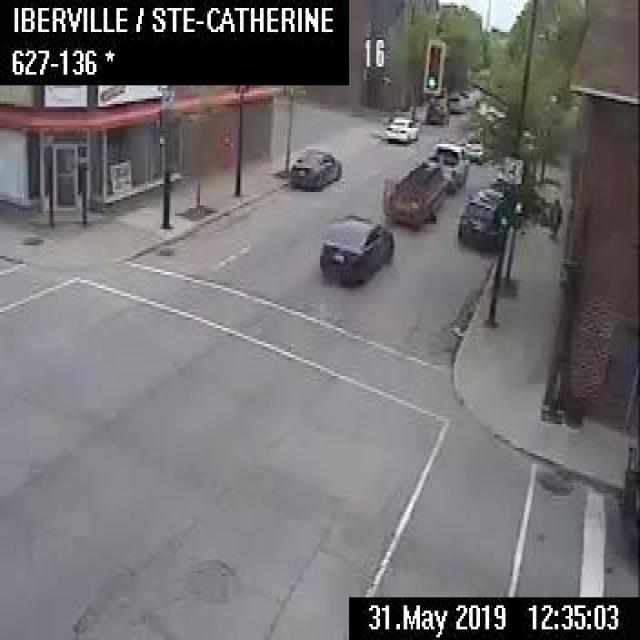pedestrian: (548, 195, 562, 237)
vehicle: (381, 140, 468, 222), (318, 212, 394, 285), (455, 187, 504, 248), (288, 147, 340, 189), (620, 443, 638, 552), (491, 171, 521, 221), (383, 114, 418, 142), (426, 99, 448, 122), (463, 134, 482, 160), (445, 92, 465, 110), (459, 87, 476, 106)
